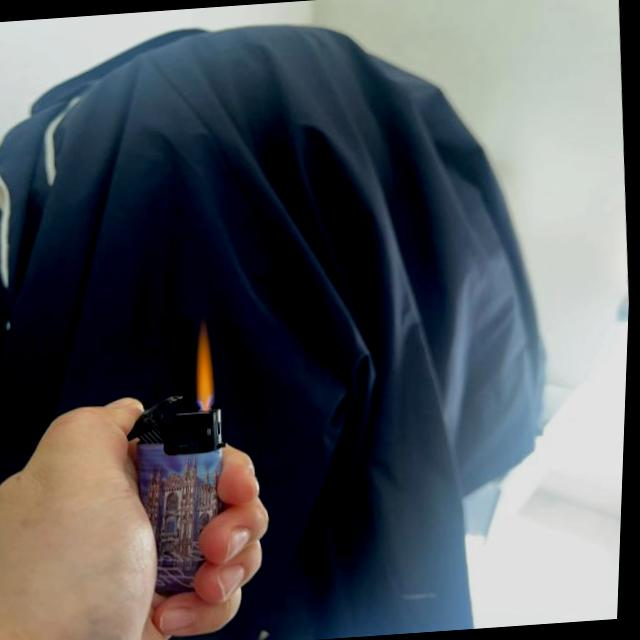helmet: (190, 327, 220, 404)
